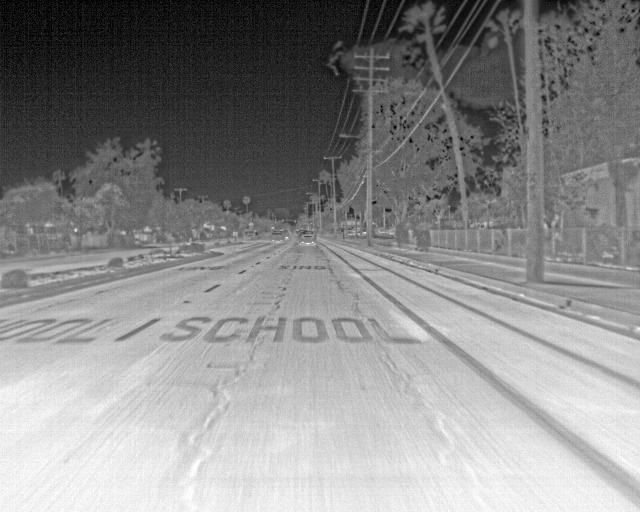car: (298, 228, 316, 244)
